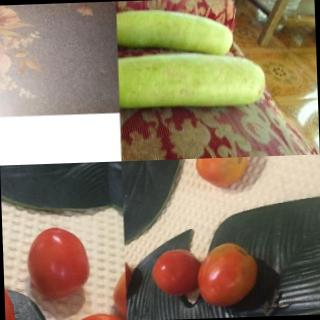Tomat: (137, 236, 272, 312), (22, 227, 99, 308)
